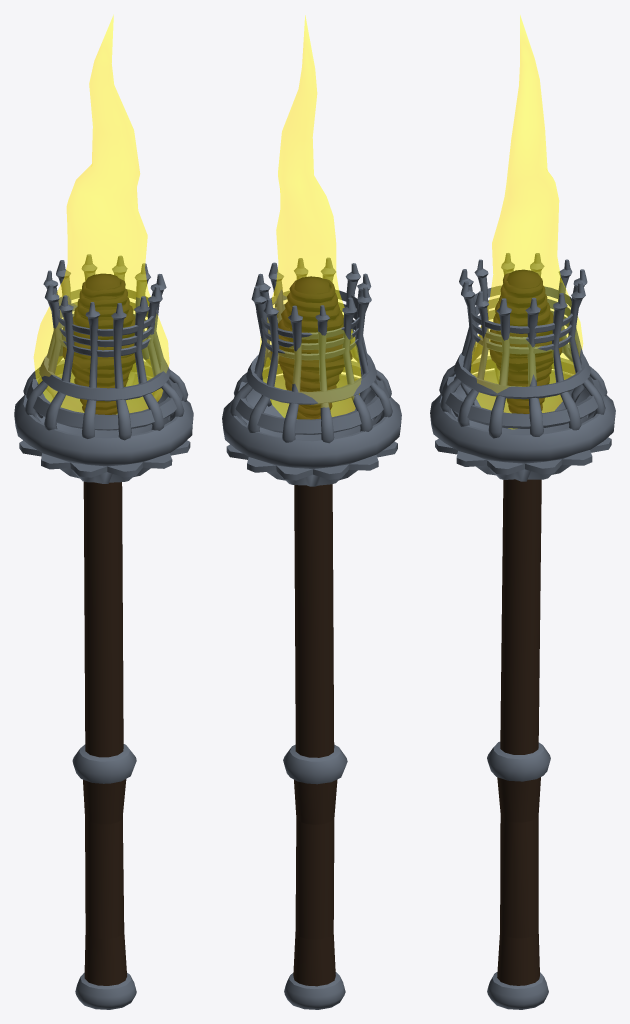
The model's file is torch.glb.
The picture shows the model from 3 angles, left to right: view 1: azimuth 30°, elevation 25°; view 2: azimuth 150°, elevation 25°; view 3: azimuth 270°, elevation 25°; orthographic projection.
Parts seen in each view (by area): view 1: torche_metallic_clean_1, torche_wood_leather_2, torche_fire_flame_0; view 2: torche_metallic_clean_1, torche_wood_leather_2, torche_fire_flame_0; view 3: torche_metallic_clean_1, torche_wood_leather_2, torche_fire_flame_0.
Boxes of the visible parts, x1=… form: torche_metallic_clean_1: x1=14, y1=254, x2=193, y2=1009; torche_wood_leather_2: x1=62, y1=273, x2=135, y2=985; torche_fire_flame_0: x1=33, y1=15, x2=169, y2=414; torche_metallic_clean_1: x1=222, y1=257, x2=401, y2=1009; torche_wood_leather_2: x1=271, y1=276, x2=352, y2=986; torche_fire_flame_0: x1=260, y1=15, x2=361, y2=419; torche_metallic_clean_1: x1=430, y1=253, x2=615, y2=1009; torche_wood_leather_2: x1=489, y1=269, x2=562, y2=985; torche_fire_flame_0: x1=470, y1=15, x2=583, y2=429.
Bounding box in the file's own units: 1.99 × 12.13 × 2.06.
